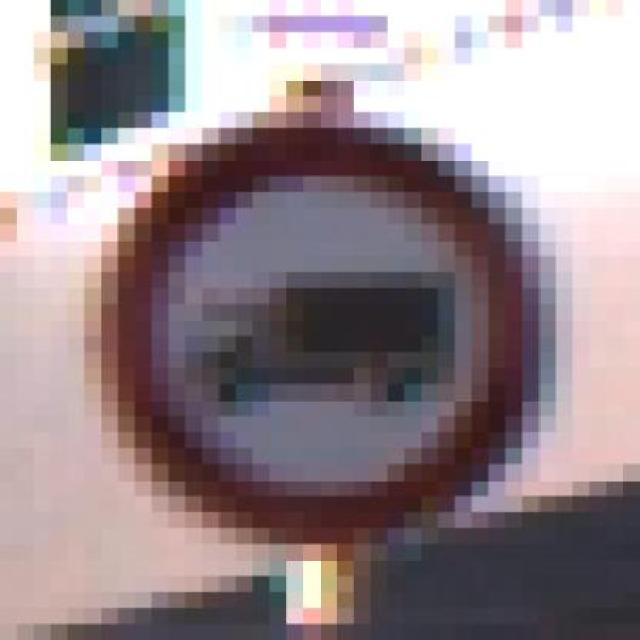Truck traffic is prohibited: (67, 128, 573, 544)
